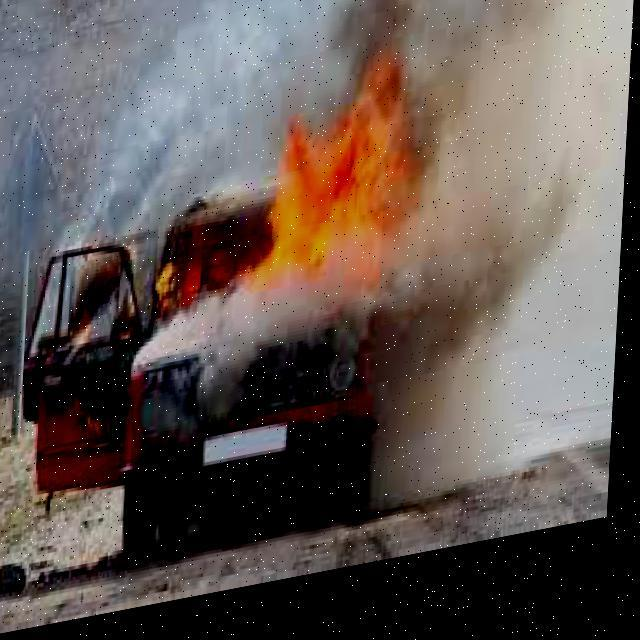Fire: (266, 73, 438, 310), (146, 132, 306, 374), (38, 203, 162, 444)
